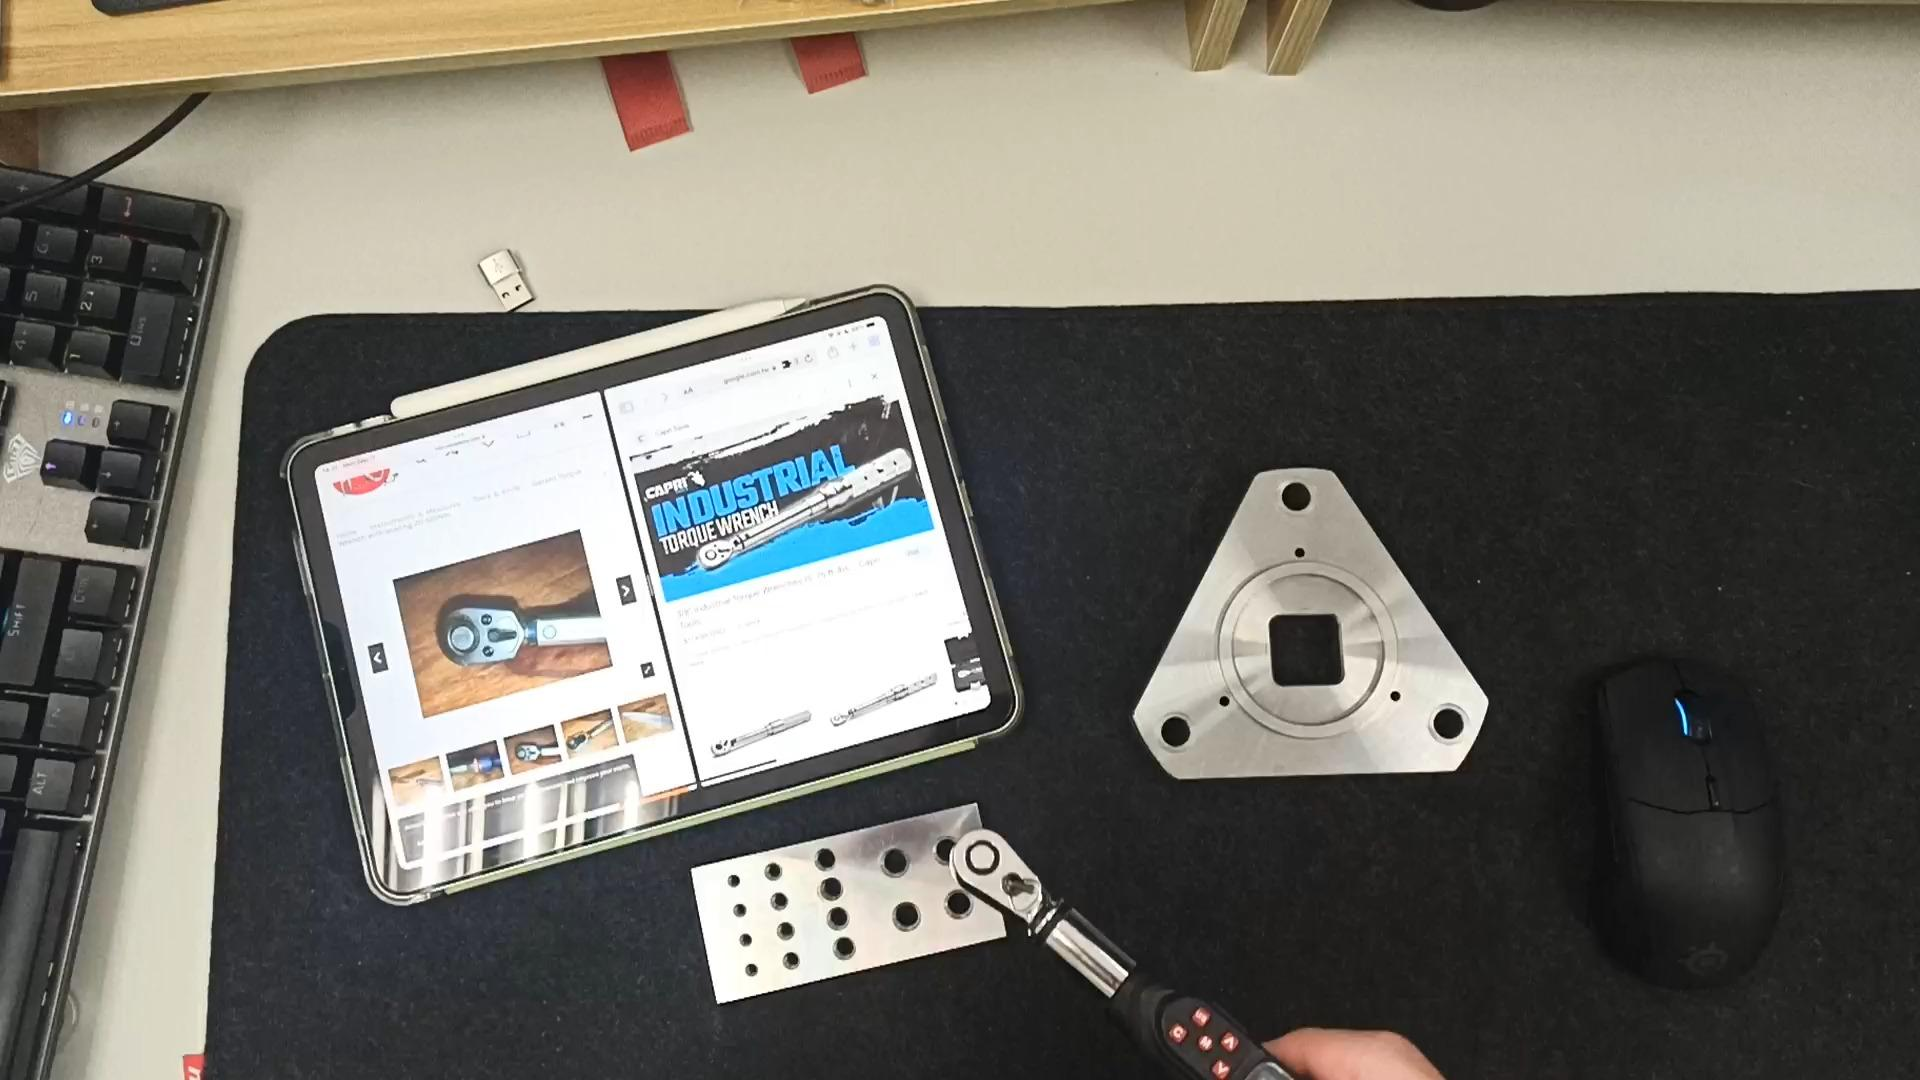Tool: (948, 827, 1062, 924), (438, 603, 531, 670), (696, 538, 737, 571)
hole: (1261, 479, 1321, 521), (1415, 703, 1470, 746), (1145, 716, 1199, 757), (926, 893, 984, 928), (870, 847, 924, 880), (884, 903, 931, 938), (803, 848, 851, 874), (808, 874, 853, 899), (930, 829, 959, 868), (825, 938, 868, 961), (820, 909, 862, 932), (765, 889, 803, 910), (761, 862, 798, 882), (771, 923, 807, 943), (778, 955, 815, 973), (716, 872, 750, 890), (729, 931, 761, 949), (723, 903, 754, 920), (737, 964, 766, 980)
